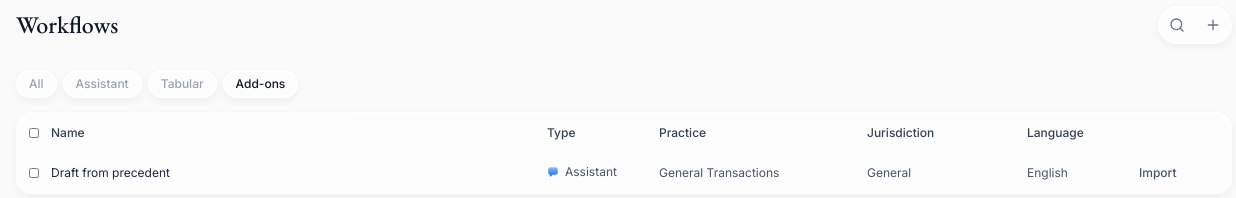
Test: WorkflowList pack toolbar › shows Imported with a green tick and stays on Add-ons
Click the button "Import" at (1158, 173), box [1139,165,1176,181]
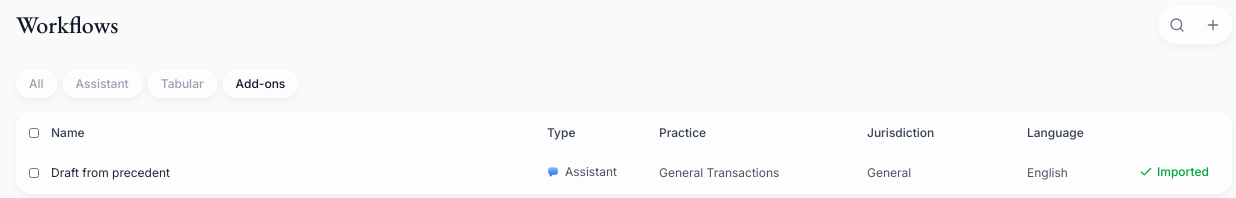
Now the icon next to "English" is shown, box [1139,164,1153,178]
Now the button "Imported" is disabled, box [1139,164,1209,180]
